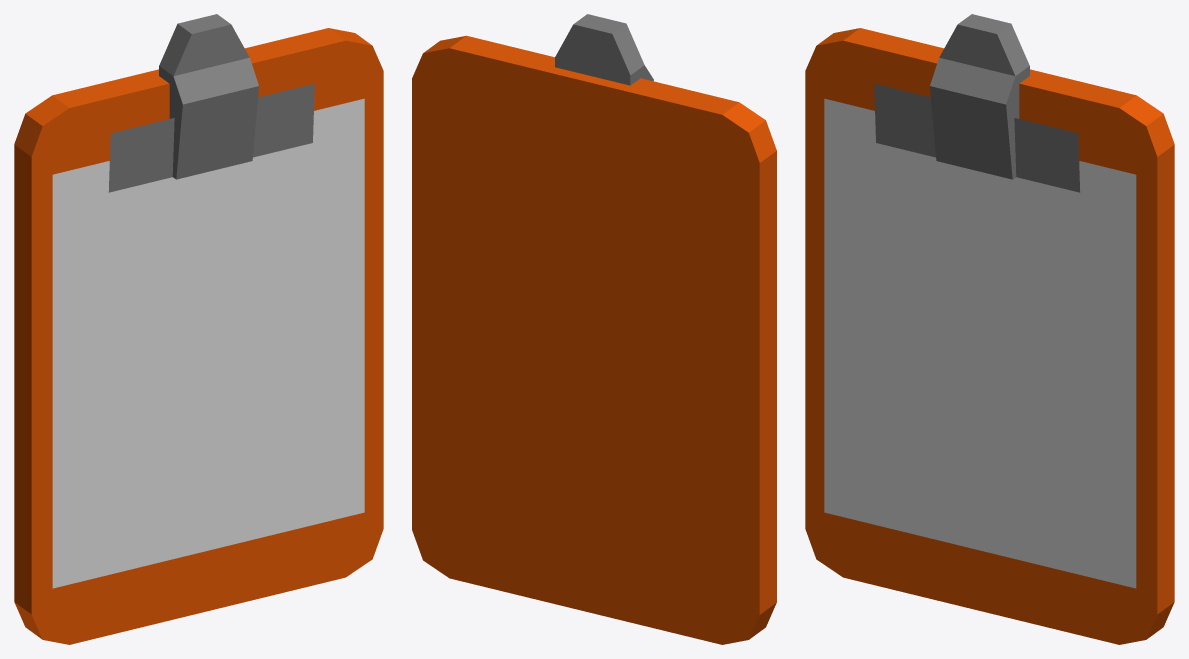
The model's file is ClipBoardTemplate.fbx.
The picture shows the model from 3 angles, left to right: view 1: azimuth 30°, elevation 25°; view 2: azimuth 150°, elevation 25°; view 3: azimuth 330°, elevation 25°; orthographic projection.
Parts seen in each view (by area): view 1: Cube; view 2: Cube; view 3: Cube.
Boxes of the visible parts, x1,y1,x2,y2 form: Cube: (14, 14, 383, 644); Cube: (412, 14, 776, 644); Cube: (805, 14, 1174, 644).
Bounding box in the file's own units: 200 × 317 × 30.19.
